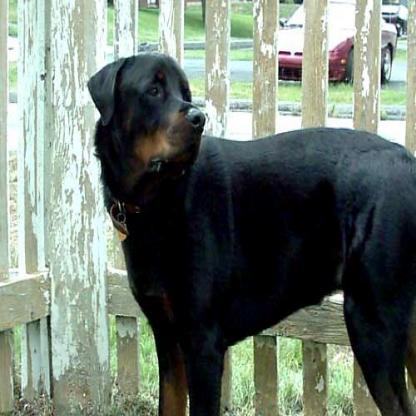Rottweiler: (86, 52, 414, 414)
